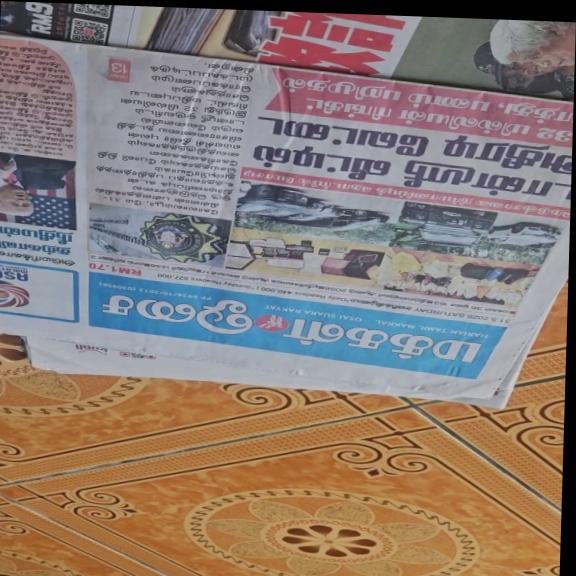Kertas: (4, 42, 571, 352)
